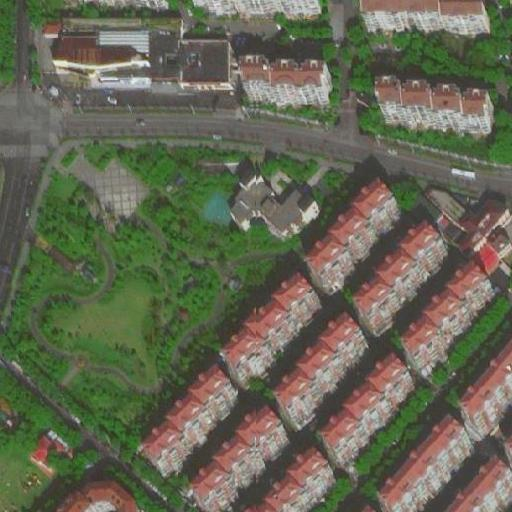building: (140, 368, 238, 470), (220, 274, 318, 374), (304, 181, 401, 282), (271, 316, 366, 417), (353, 224, 449, 323), (189, 407, 285, 505), (319, 353, 411, 455), (399, 260, 491, 362), (378, 414, 474, 508), (237, 448, 332, 512), (53, 30, 170, 76), (460, 335, 512, 431), (382, 81, 490, 123), (434, 454, 509, 512), (165, 38, 247, 91), (257, 185, 319, 241), (55, 479, 150, 512), (240, 63, 330, 96), (372, 4, 490, 29), (456, 196, 509, 251), (477, 231, 512, 277), (412, 189, 450, 227), (29, 432, 60, 466)
